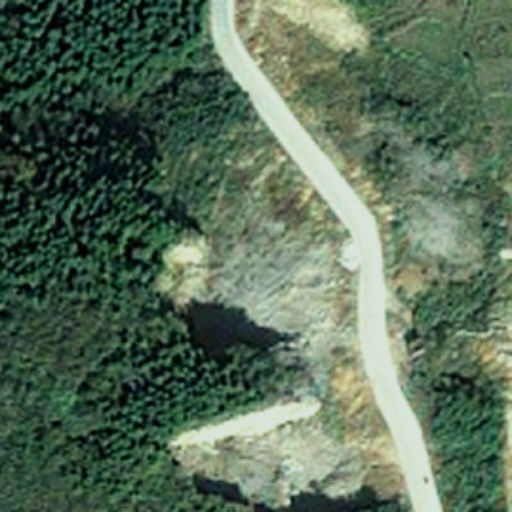landslide: (161, 210, 358, 341), (164, 399, 390, 502)
